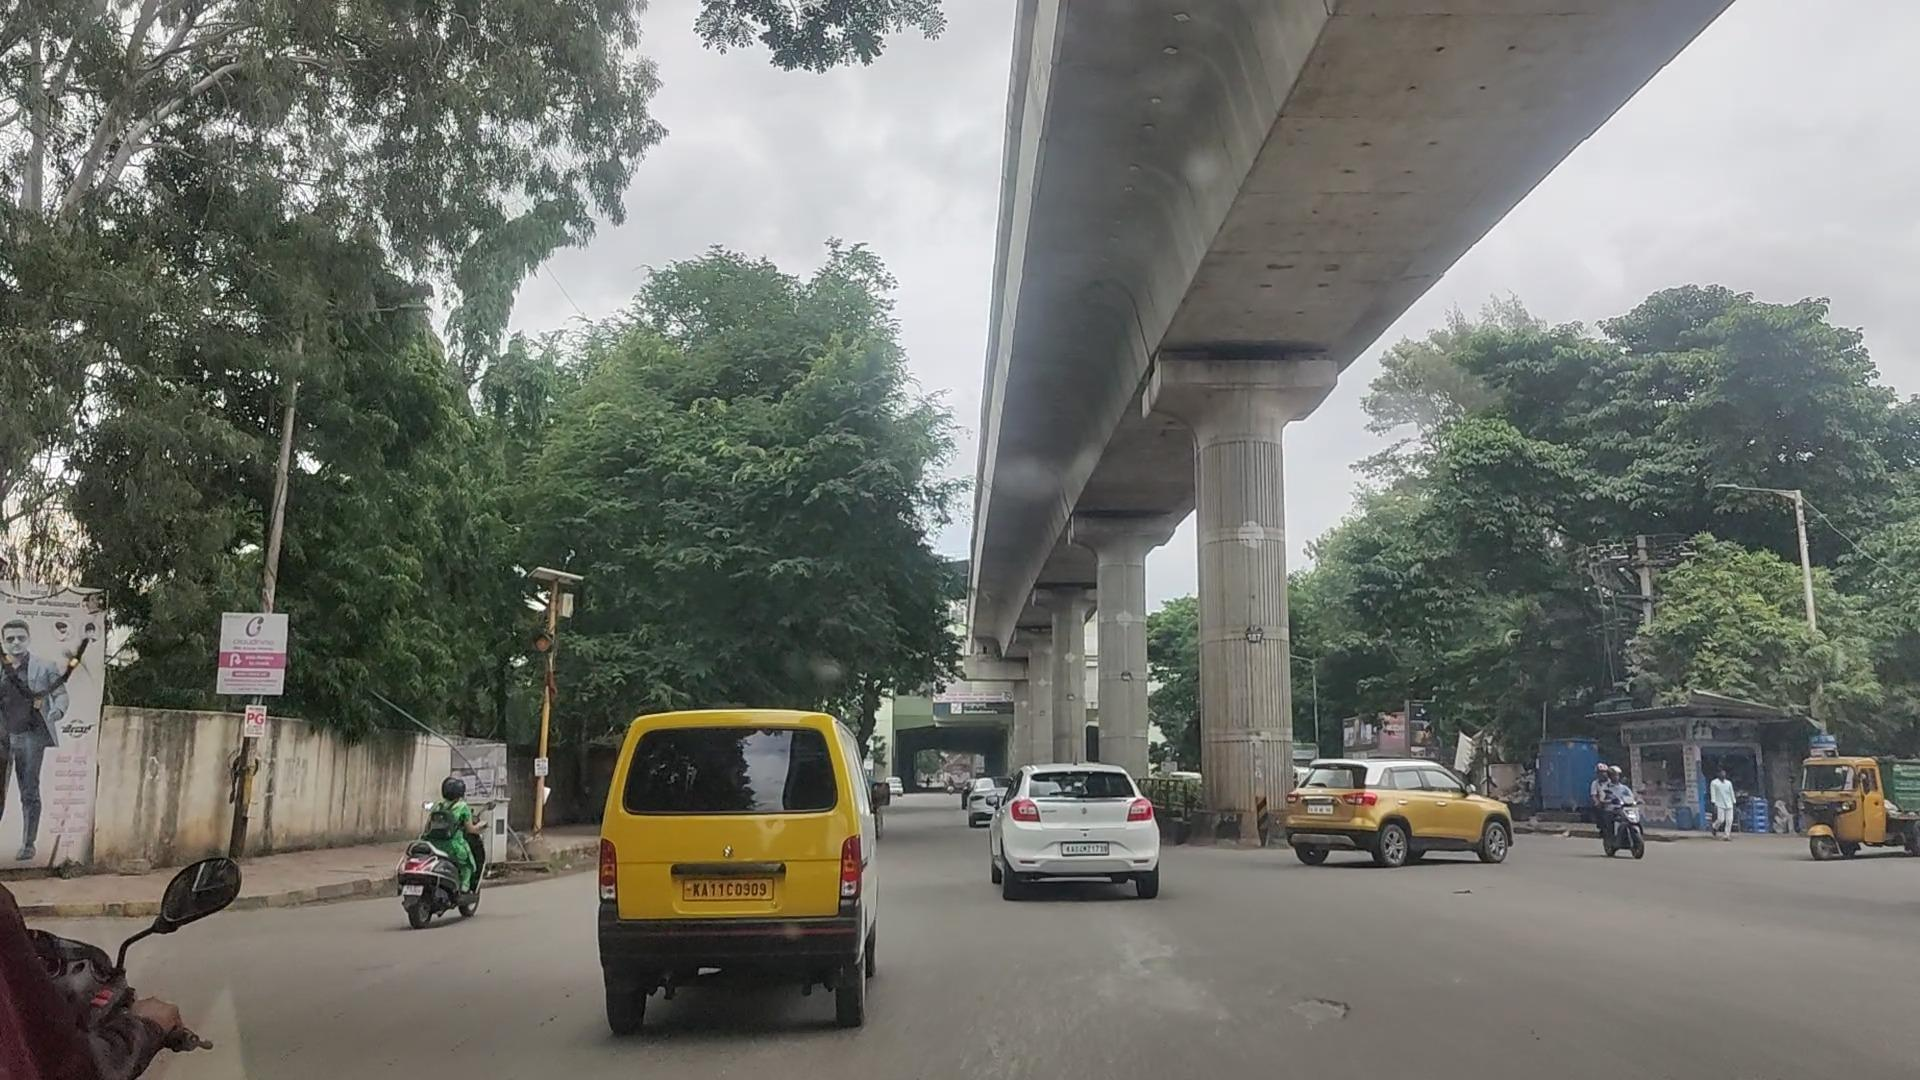LMV: (605, 705, 870, 1038), (998, 758, 1166, 909), (393, 777, 497, 932)
RoadDamages: (1089, 923, 1225, 1014), (943, 997, 1052, 1080), (1300, 984, 1358, 1038)
